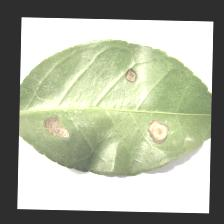canker: (48, 77, 172, 157)
